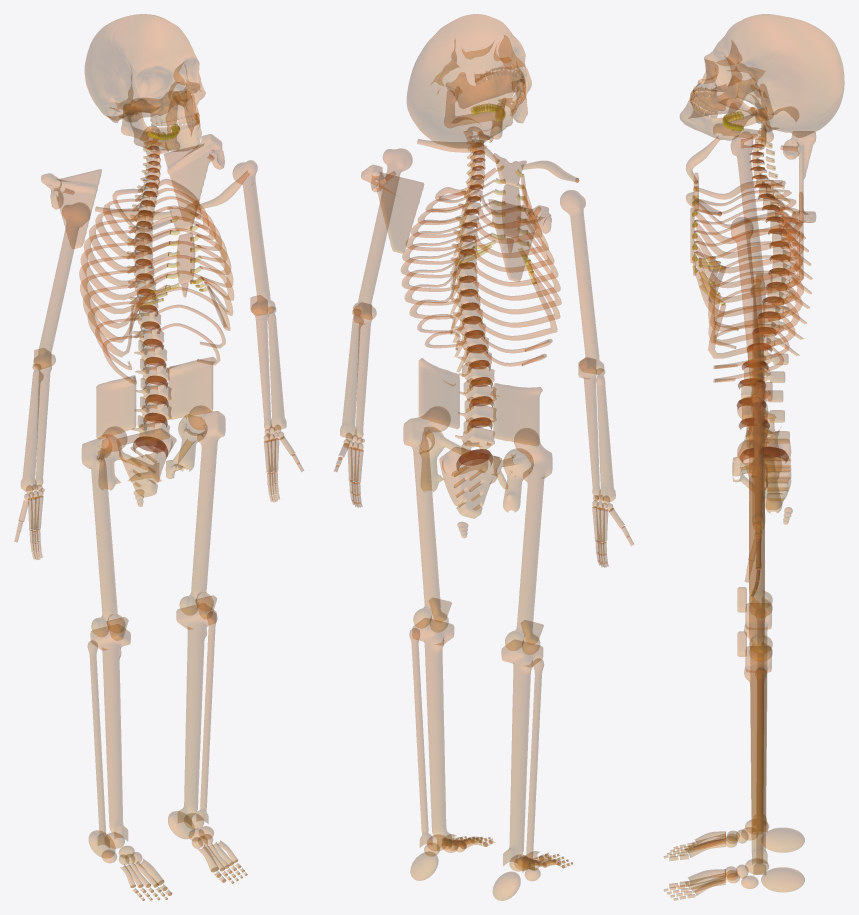
The model's file is skeleton-full.glb.
3 renders of one model, left to right at view 1: azimuth 30°, elevation 25°; view 2: azimuth 150°, elevation 25°; view 3: azimuth 270°, elevation 25°, orthographic. The views are drawn at different scales.
Parts seen in each view (by area): view 1: skull_cranium, femur_R, femur_L, tibia_L, hip_bone_L, tibia_R, hip_bone_R, humerus_R, scapula_L, scapula_R, humerus_L, sacrum (+20 smaller); view 2: skull_cranium, femur_L, femur_R, hip_bone_R, tibia_L, tibia_R, hip_bone_L, sacrum, humerus_R, scapula_R, scapula_L, humerus_L (+19 smaller); view 3: skull_cranium, tibia_L, femur_L, humerus_L, tibia_R, humerus_R, fibula_L, femur_R, sacrum, ulna_L, radius_L, hip_bone_L (+30 smaller).
Part boxes in pixels (x1,y1,x2,y2): skull_cranium: (85,14,205,151); femur_R: (82,426,127,636); femur_L: (180,405,225,615); tibia_L: (176,605,216,825); hip_bone_L: (166,357,215,478); tibia_R: (90,627,130,840); hip_bone_R: (96,375,161,490); humerus_R: (33,202,90,369); scapula_L: (163,134,224,220); scapula_R: (41,169,101,248); humerus_L: (232,160,275,315); sacrum: (118,429,176,497); skull_cranium: (407,14,531,148); femur_L: (403,407,450,632); femur_R: (505,428,552,654); hip_bone_R: (490,383,542,512); tibia_L: (412,618,453,849); tibia_R: (501,640,542,865); hip_bone_L: (419,358,487,491); sacrum: (439,447,501,518); humerus_R: (560,190,604,374); scapula_R: (488,199,551,281); scapula_L: (361,165,423,253); humerus_L: (353,148,412,319); skull_cranium: (680,14,844,140); tibia_L: (744,646,771,863); femur_L: (737,439,772,661); humerus_L: (731,217,764,401); tibia_R: (744,603,771,832); humerus_R: (731,132,764,291); fibula_L: (753,667,766,874); femur_R: (737,397,772,616); sacrum: (763,439,790,509); ulna_L: (750,382,772,521); radius_L: (751,396,764,529); hip_bone_L: (732,390,781,513).
Size of the model in its own units: 0.6221 by 1.71 by 0.3279.
